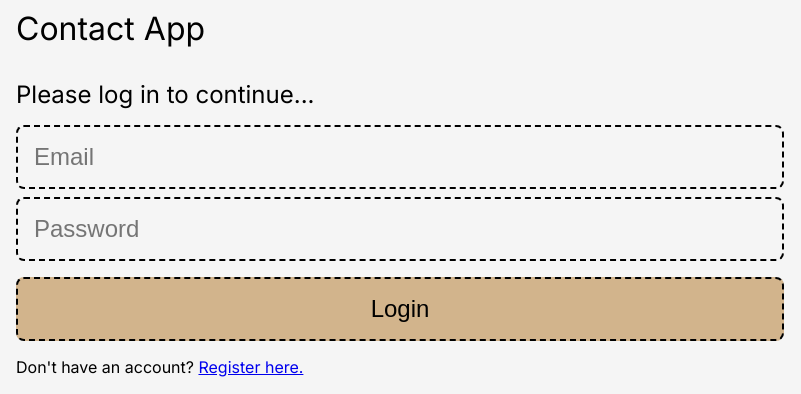
Test case: Add spec › should display add page correctly
The image size is (801, 394).
Type "john.doe@gmail.com" into the field with placeholder "Email".
click(400, 157); type("john.doe@gmail.com")  # box [16,125,784,189]
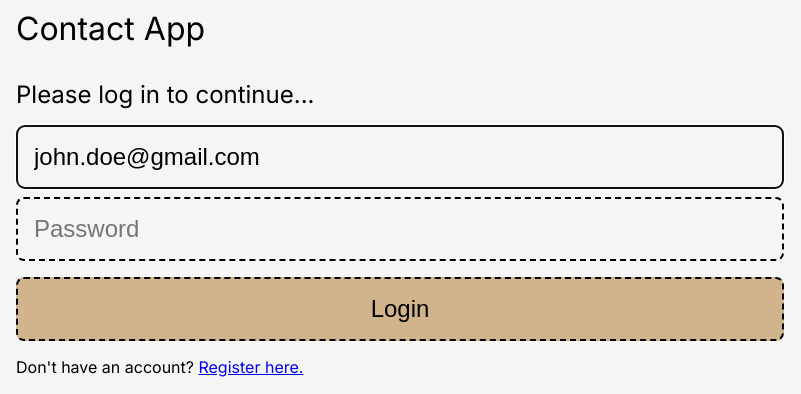
Type "password" into the password field with placeholder "Password".
click(400, 229); type("password")  # box [16,197,784,261]
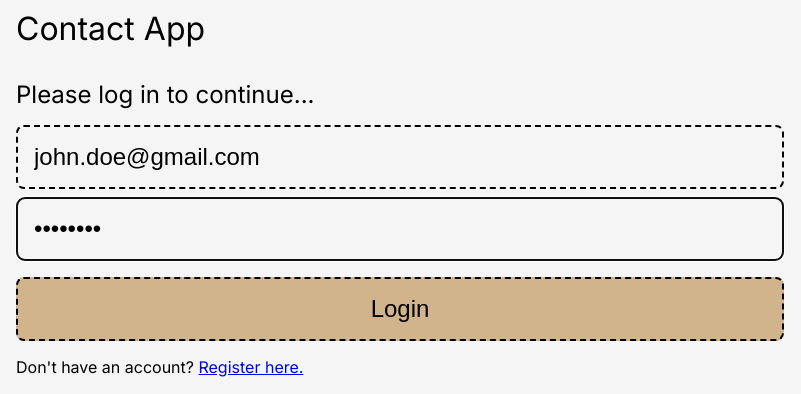
Click the button "Login".
click(400, 309)  # box [16,277,784,341]
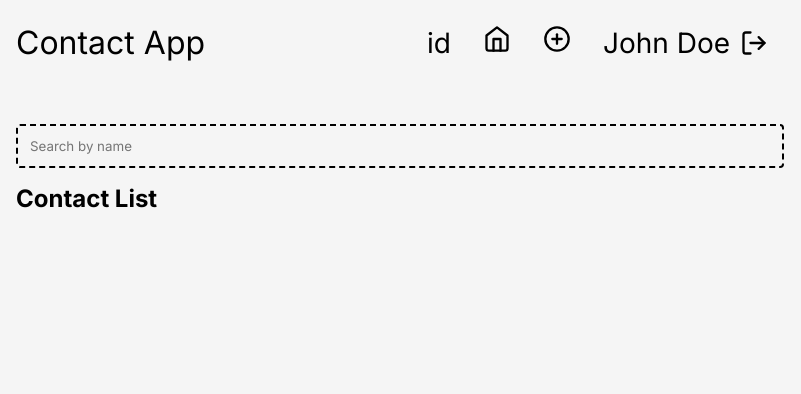
Open "http://localhost:5173/add"
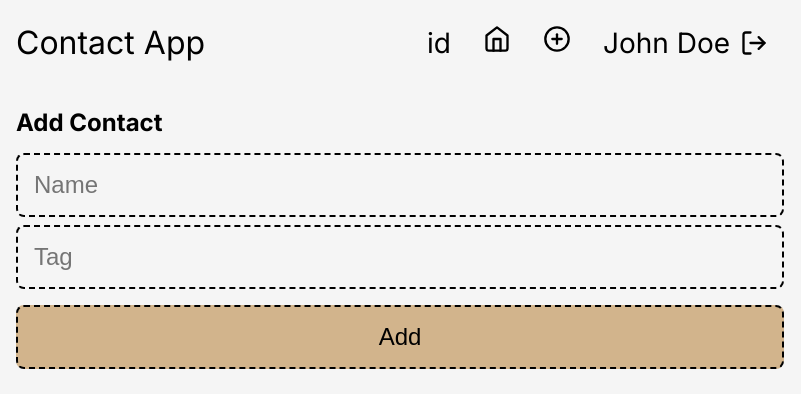
Expected: the field with placeholder "Name" is shown, [16,153,784,217]
Expected: the field with placeholder "Tag" is shown, [16,225,784,289]
Expected: the button "Add" is shown, [16,305,784,369]
